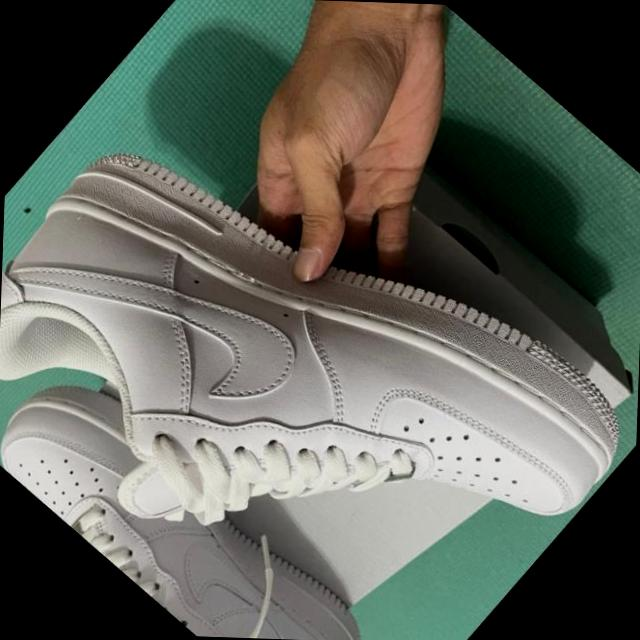nike_original_airforce: (0, 7, 640, 640), (0, 349, 423, 640)
